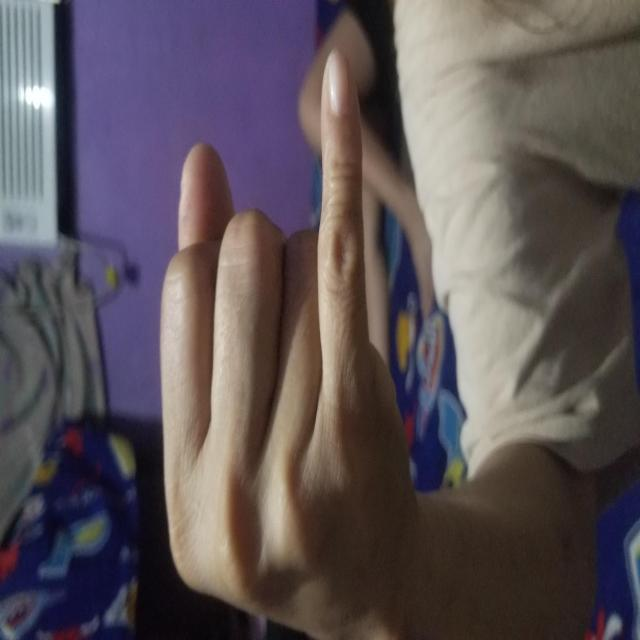J: (0, 159, 593, 415)
